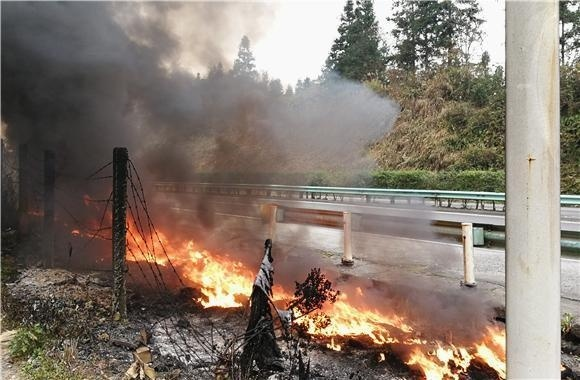fire: (121, 199, 491, 375)
